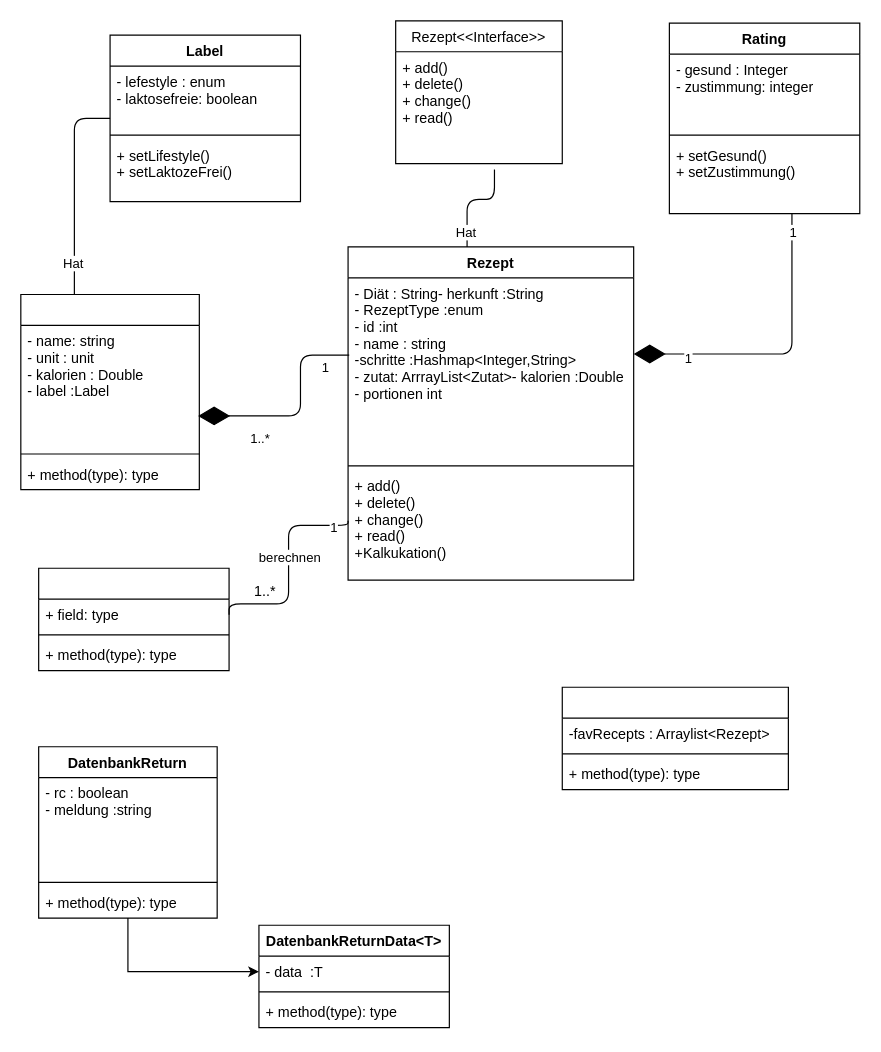
Image size: 881x1052. Some labels were removed from this diagram. Each missing label, with the box of its shape:
Lifestyle: (37, 567, 229, 671)
User: (561, 686, 788, 790)
Zutat: (20, 293, 199, 490)
